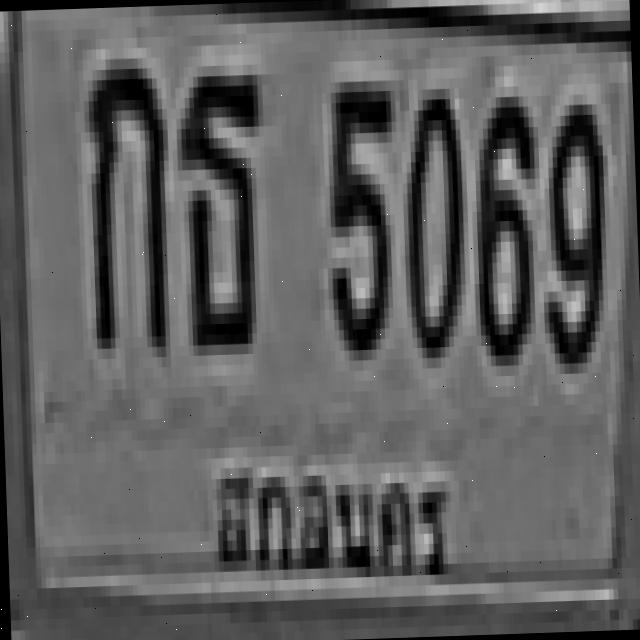0: (399, 78, 463, 348)
10GorGai: (82, 48, 165, 338)
33ThorThong: (174, 64, 266, 346)
5: (320, 70, 394, 350)
6: (467, 86, 536, 356)
9: (536, 94, 605, 364)
SakonNakhon: (201, 424, 467, 604)
